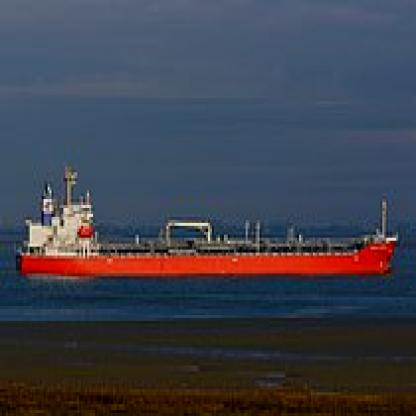Tanker: (22, 154, 396, 282)
